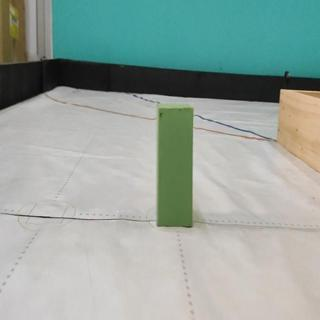greenbox: (154, 103, 197, 229)
